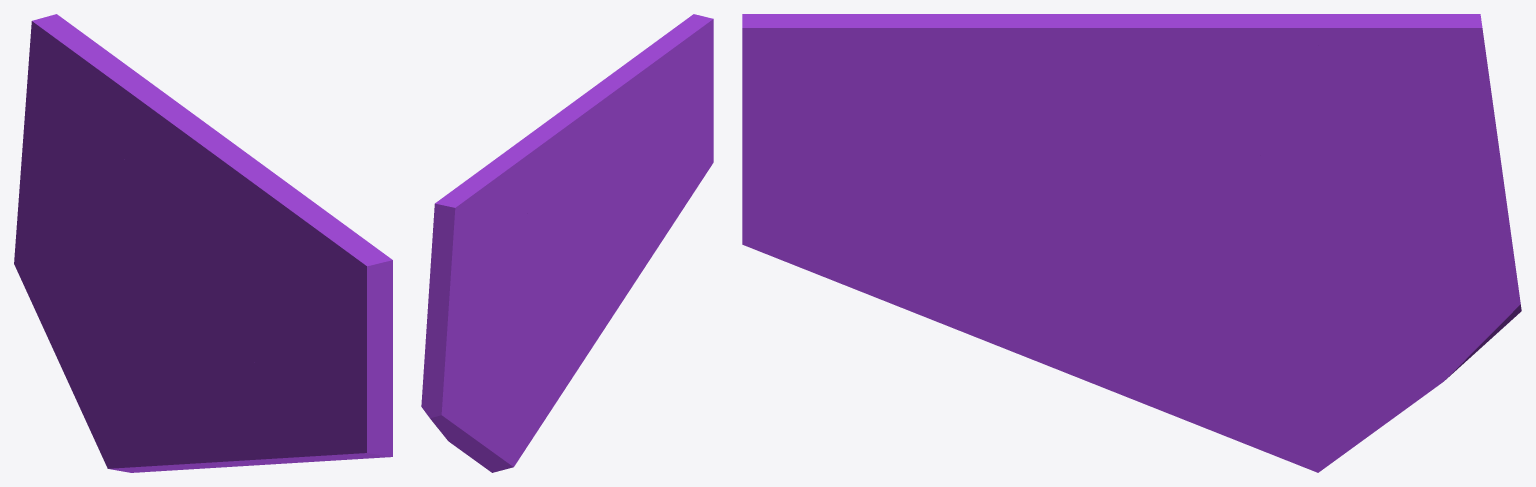
File: Glass_68_5_chunks.fbx
3 views of the same model, side by side, from view 1: azimuth 30°, elevation 25°; view 2: azimuth 150°, elevation 25°; view 3: azimuth 270°, elevation 25° (orthographic). The views are drawn at different scales.
Visible parts, largest first — view 1: Glass_68_5_3, Glass_68_5_2, Glass_68_5_1, Glass_68_5_0; view 2: Glass_68_5_3, Glass_68_5_2, Glass_68_5_1, Glass_68_5_0; view 3: Glass_68_5_3, Glass_68_5_2, Glass_68_5_0, Glass_68_5_1.
Part boxes in pixels (x1,y1,x2,y2): Glass_68_5_3: (106, 65, 392, 457); Glass_68_5_2: (14, 14, 151, 417); Glass_68_5_1: (139, 284, 379, 464); Glass_68_5_0: (84, 334, 264, 472); Glass_68_5_3: (489, 14, 713, 274); Glass_68_5_2: (421, 164, 547, 454); Glass_68_5_1: (538, 160, 713, 369); Glass_68_5_0: (467, 328, 577, 472); Glass_68_5_3: (742, 14, 1327, 255); Glass_68_5_2: (1222, 14, 1521, 420); Glass_68_5_0: (1016, 230, 1390, 472); Glass_68_5_1: (771, 250, 1128, 352).
Size of the model in its own units: 27.2 by 407 by 646.
